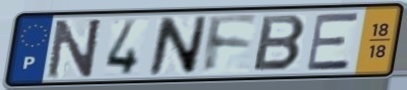4: (103, 16, 145, 78)
B: (250, 13, 309, 73)
E: (304, 10, 361, 73)
F: (202, 13, 260, 76)
N: (146, 14, 211, 77), (45, 17, 105, 81)
